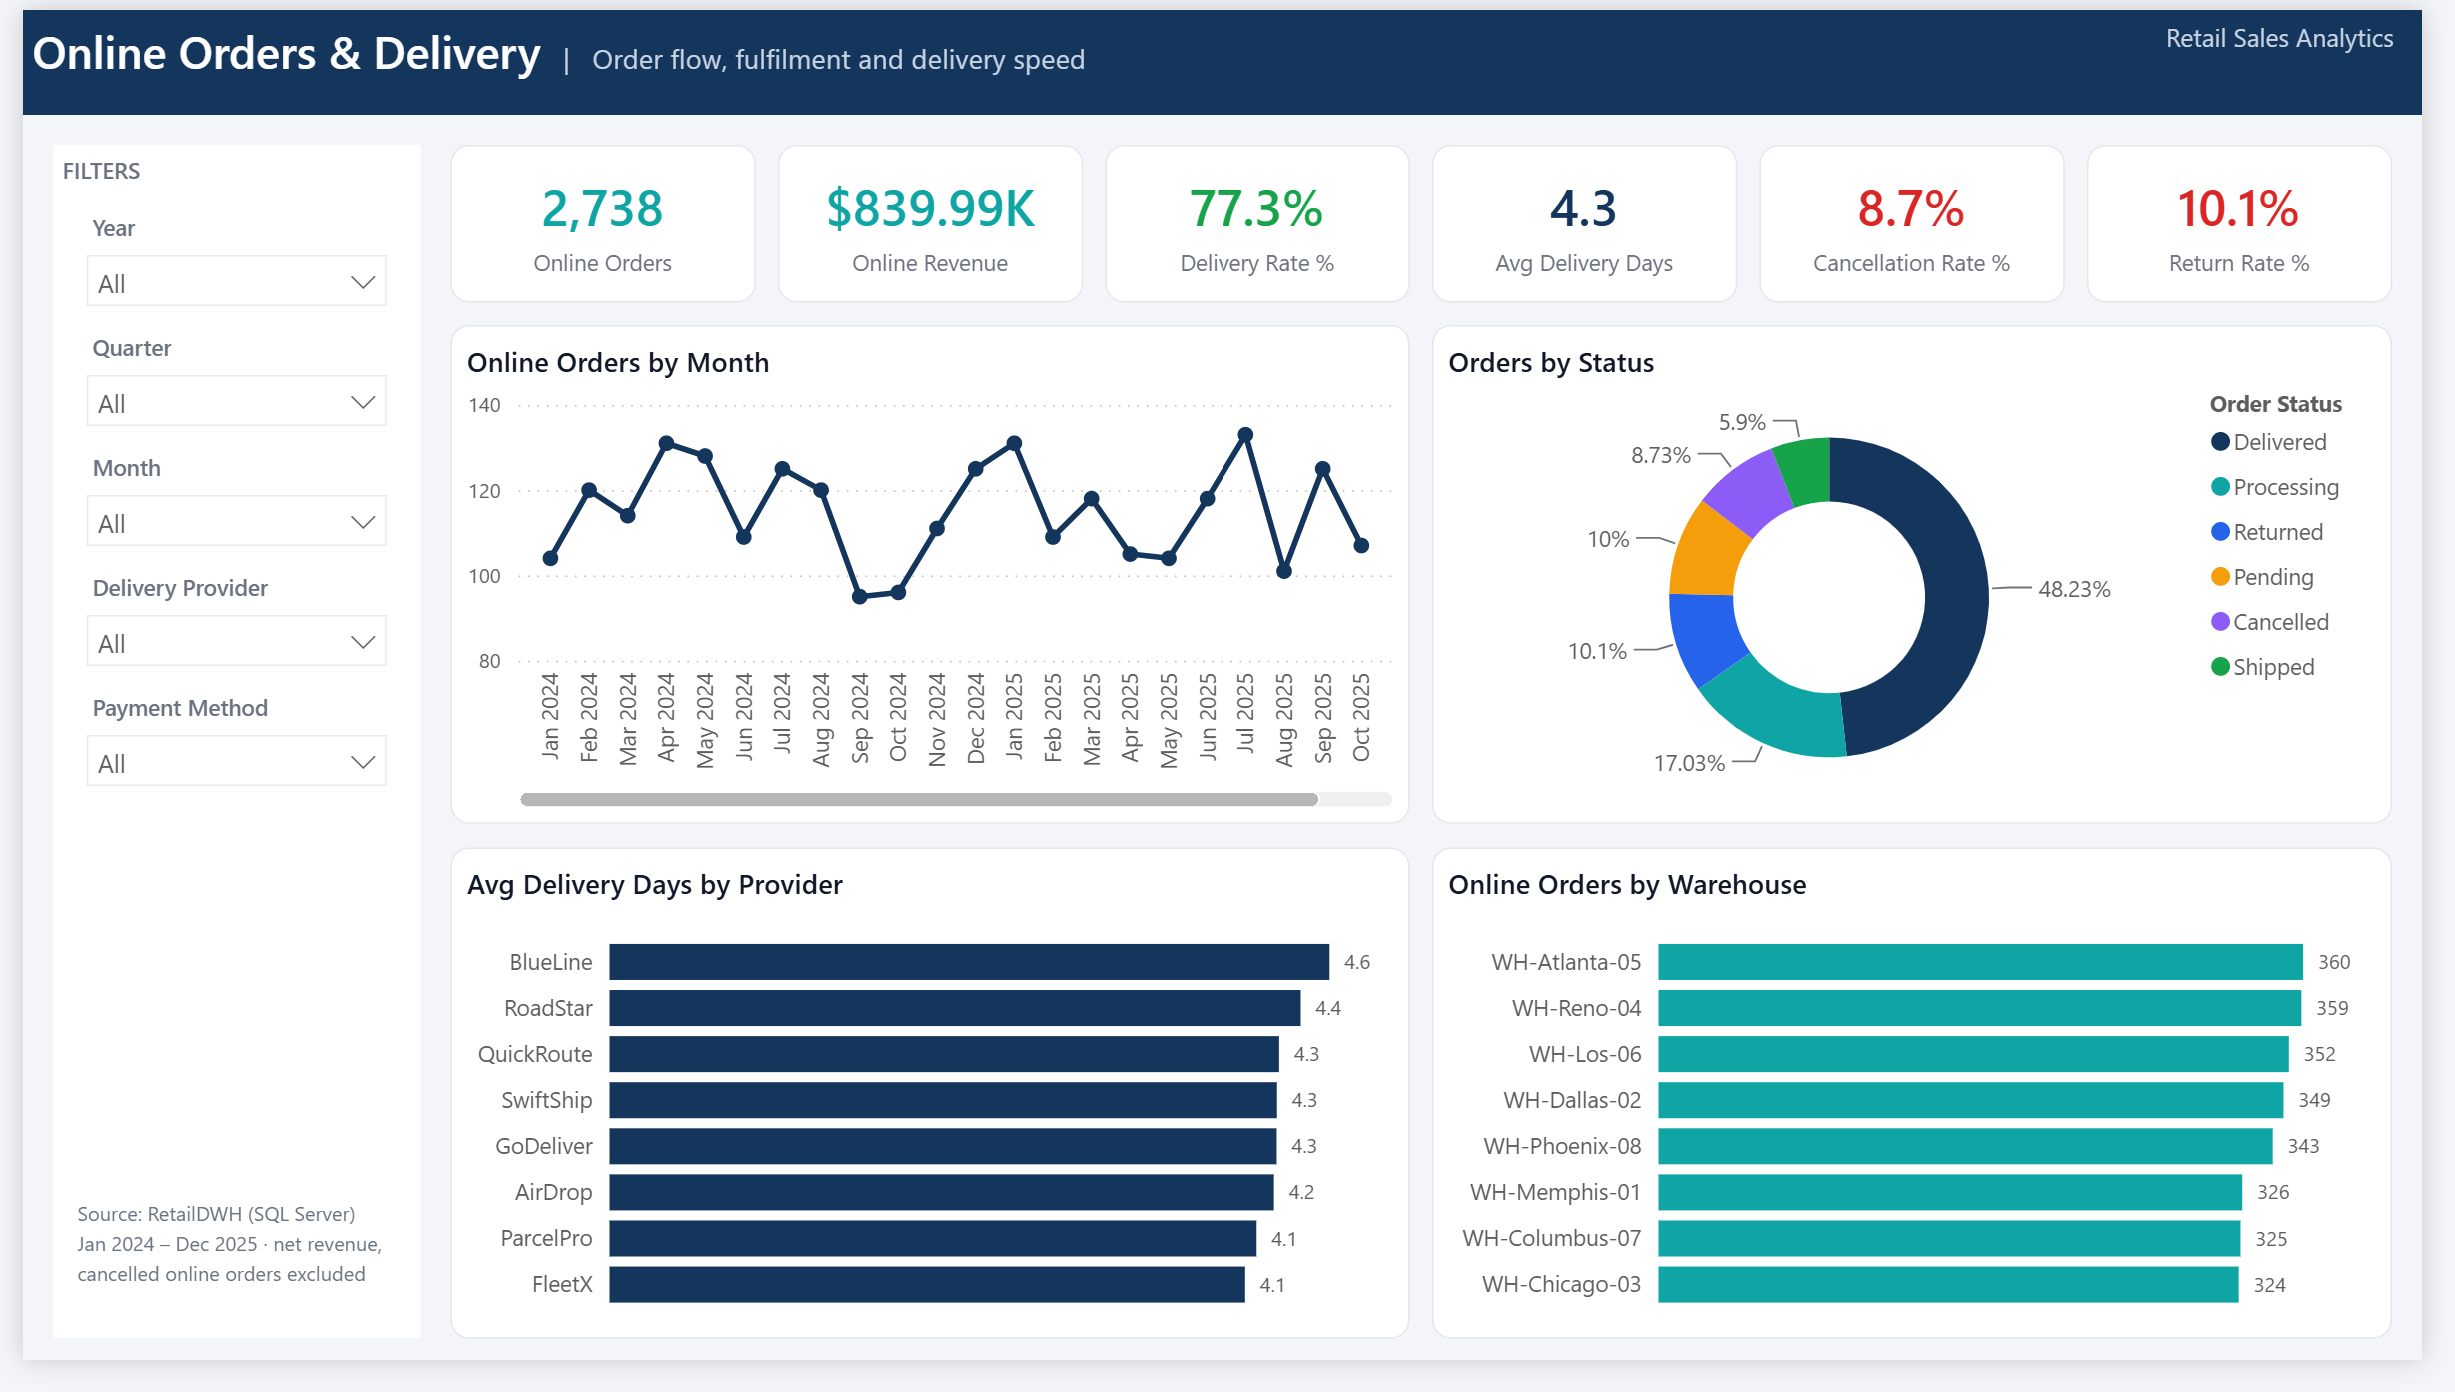

Layout of this report page (visuals, bound fields, positions):
{"tool":"powerbi","page":{"name":"Online Orders & Delivery","canvas":[1280,720],"ordinal":3},"visuals":[{"type":"textbox","box":[0,0,1280,56],"z":2000},{"type":"textbox","box":[980,0,290,56],"z":3000},{"type":"textbox","box":[16,72,196,636],"z":4000},{"type":"slicer","fields":{"Values":["Date.Year"]},"box":[24,102,180,56],"z":5000},{"type":"slicer","fields":{"Values":["Date.Quarter"]},"box":[24,166,180,56],"z":6000},{"type":"slicer","fields":{"Values":["Date.Month Name"]},"box":[24,230,180,56],"z":7000},{"type":"slicer","fields":{"Values":["Delivery Provider.Provider"]},"box":[24,294,180,56],"z":8000},{"type":"slicer","fields":{"Values":["Online Sales.Payment Method"]},"box":[24,358,180,56],"z":9000},{"type":"textbox","box":[24,628,180,64],"z":10000},{"type":"card","fields":{"Values":["Key Measures.Online Orders"]},"box":[228,72,162.7,84],"z":11000},{"type":"card","fields":{"Values":["Key Measures.Online Revenue"]},"box":[402.7,72,162.7,84],"z":12000},{"type":"card","fields":{"Values":["Key Measures.Delivery Rate %"]},"box":[577.3,72,162.7,84],"z":13000},{"type":"card","fields":{"Values":["Key Measures.Avg Delivery Days"]},"box":[752,72,162.7,84],"z":14000},{"type":"card","fields":{"Values":["Key Measures.Cancellation Rate %"]},"box":[926.7,72,162.7,84],"z":15000},{"type":"card","fields":{"Values":["Key Measures.Return Rate %"]},"box":[1101.3,72,162.7,84],"z":16000},{"type":"lineChart","title":"Online Orders by Month","fields":{"Category":["Date.Month"],"Y":["Key Measures.Online Orders"]},"box":[228,168,512,266],"z":17000},{"type":"donutChart","title":"Orders by Status","fields":{"Category":["Online Sales.Order Status"],"Y":["Key Measures.All Online Orders"]},"box":[752,168,512,266],"z":18000},{"type":"clusteredBarChart","title":"Avg Delivery Days by Provider","fields":{"Category":["Delivery Provider.Provider"],"Y":["Key Measures.Avg Delivery Days"]},"box":[228,446,512,262],"z":19000},{"type":"clusteredBarChart","title":"Online Orders by Warehouse","fields":{"Category":["Warehouse.Warehouse"],"Y":["Key Measures.Online Orders"]},"box":[752,446,512,262],"z":20000}]}

Visuals, with their boxes in screenshot pixels (x1, y1, x2, y2), scaled from the page's 1280x720 canvas onto the 2455x1392 screenshot:
textbox: [0, 0, 2454, 108]
textbox: [1880, 0, 2436, 108]
textbox: [31, 139, 407, 1369]
slicer - Date.Year: [46, 197, 391, 305]
slicer - Date.Quarter: [46, 321, 391, 429]
slicer - Date.Month Name: [46, 445, 391, 553]
slicer - Delivery Provider.Provider: [46, 568, 391, 677]
slicer - Online Sales.Payment Method: [46, 692, 391, 800]
textbox: [46, 1214, 391, 1338]
card - Key Measures.Online Orders: [437, 139, 749, 302]
card - Key Measures.Online Revenue: [772, 139, 1084, 302]
card - Key Measures.Delivery Rate %: [1107, 139, 1419, 302]
card - Key Measures.Avg Delivery Days: [1442, 139, 1754, 302]
card - Key Measures.Cancellation Rate %: [1777, 139, 2089, 302]
card - Key Measures.Return Rate %: [2112, 139, 2424, 302]
"Online Orders by Month" lineChart: [437, 325, 1419, 839]
"Orders by Status" donutChart: [1442, 325, 2424, 839]
"Avg Delivery Days by Provider" clusteredBarChart: [437, 862, 1419, 1369]
"Online Orders by Warehouse" clusteredBarChart: [1442, 862, 2424, 1369]
